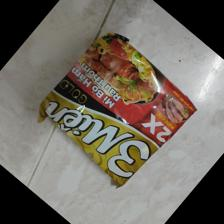3mien: (36, 32, 198, 189)
